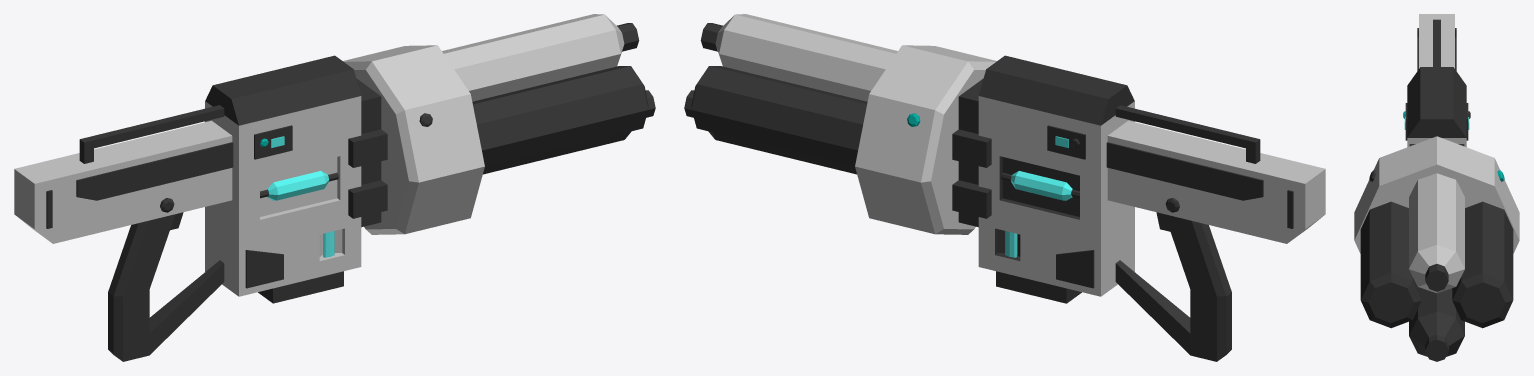
File: M_Antimatter_Annihilator.fbx
3 renders of one model, left to right at view 1: azimuth 30°, elevation 25°; view 2: azimuth 150°, elevation 25°; view 3: azimuth 270°, elevation 25°, orthographic. The views are drawn at different scales.
Parts seen in each view (by area): view 1: M_Antimatter_Annihilator; view 2: M_Antimatter_Annihilator; view 3: M_Antimatter_Annihilator.
Part boxes in pixels (x1,y1,x2,y2): M_Antimatter_Annihilator: (14, 14, 655, 361); M_Antimatter_Annihilator: (684, 14, 1325, 361); M_Antimatter_Annihilator: (1354, 14, 1519, 361).
Bounding box in the file's own units: 415 × 153 × 108.
Materials: 1 (1 with a texture image).
